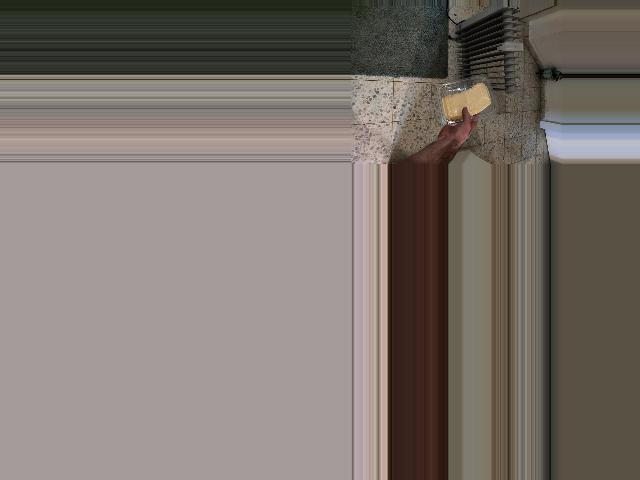cheese: (438, 81, 496, 122)
